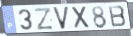3: (18, 8, 34, 32)
8: (91, 5, 108, 29)
B: (107, 5, 128, 28)
V: (52, 5, 71, 31)
X: (71, 5, 92, 30)
Z: (34, 7, 55, 32)
